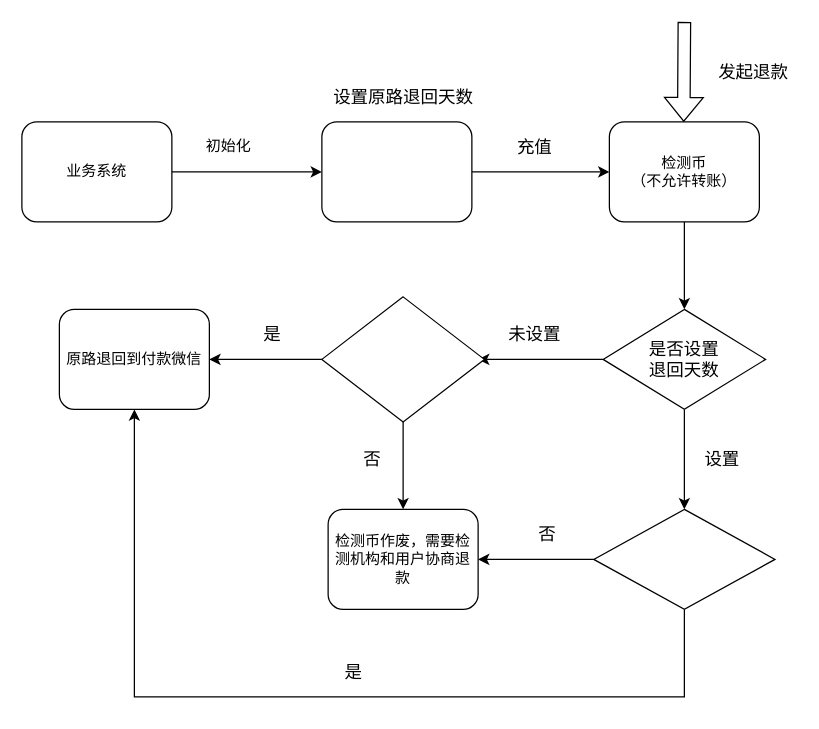
Some shapes in this 819 by 729 pixel diagram are drawn without their labels. Here are the shapes that lost their labels. From the top down, the centre of each, then its label:
point (396, 171): 招行扫码
point (402, 359): 银行一年内订单 允许原路退回
point (683, 558): 小于设置天数 且小于一年
